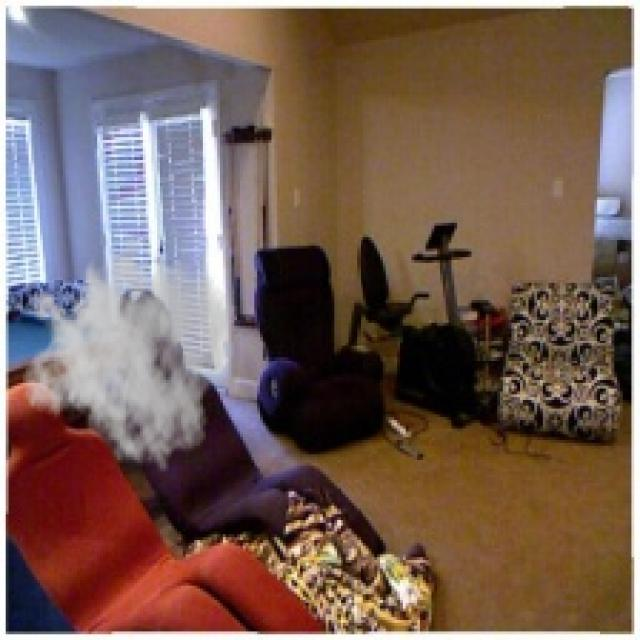smoke: (20, 220, 237, 474)
